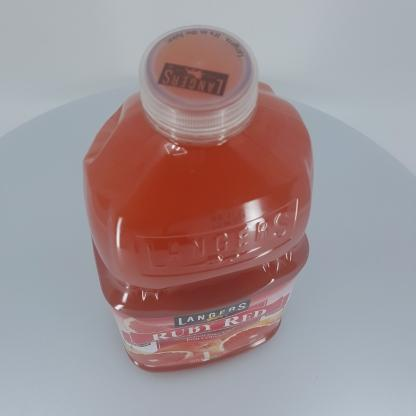---------------: (83, 25, 314, 373)
